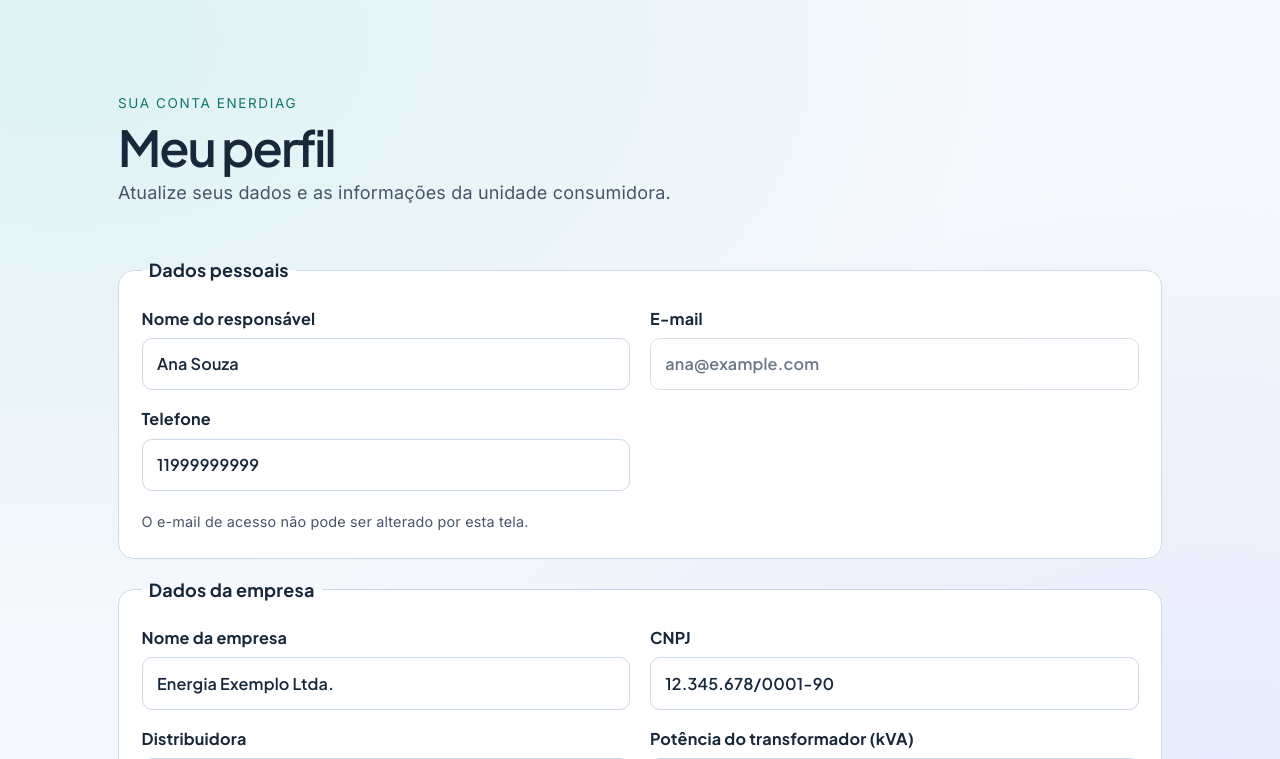
Test: customer profile › loads and updates personal and company profile data
Check: the field labelled "E-mail" holds "ana@example.com", box [650,338,1138,390]
Check: the field labelled "Nome da empresa" holds "Energia Exemplo Ltda.", box [142,658,630,710]
Replace the text in the field labelled "Nome do responsável" with "Ana Silva". click: (386, 364)
box: [142,338,630,390]
(page scrolled)
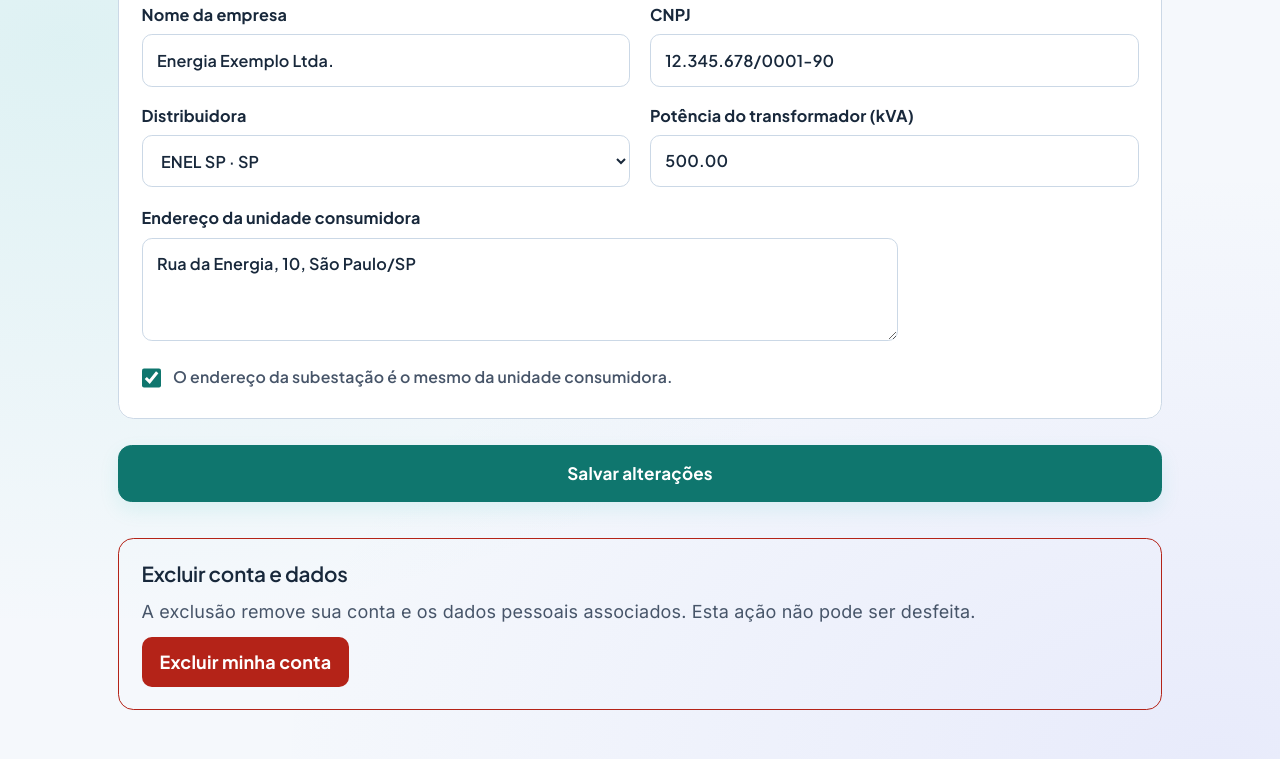
Click the button "Salvar alterações". click: (640, 473)
box: [118,444,1162,502]
(page scrolled)
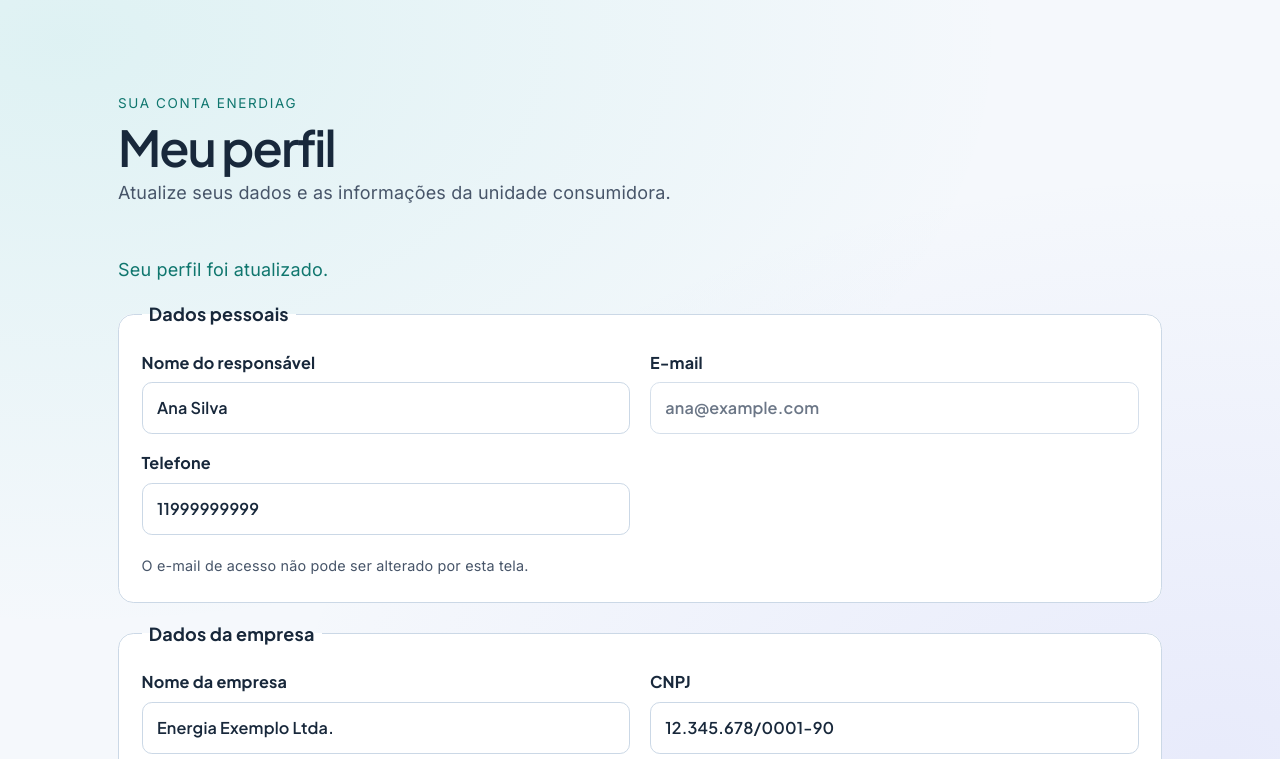
Check: the message reads "Seu perfil foi atualizado.", box [118,259,328,280]
